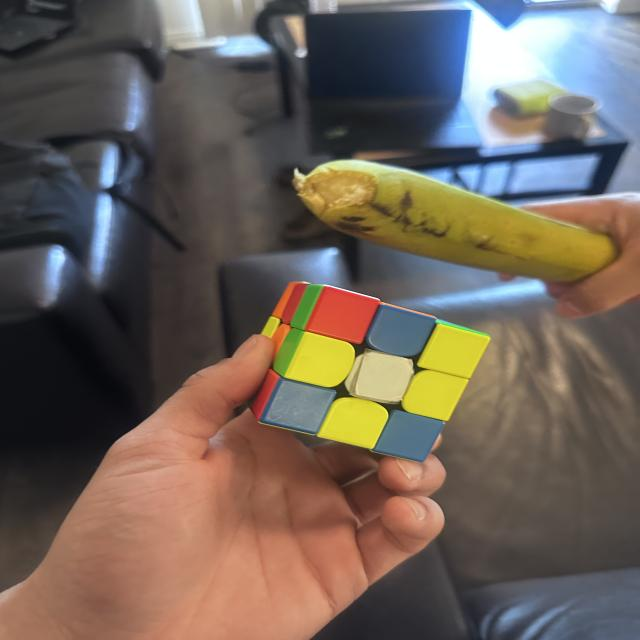sticker: (275, 328, 355, 388), (256, 376, 336, 436), (304, 285, 380, 345), (417, 320, 491, 378), (364, 303, 438, 360), (371, 408, 446, 463), (344, 348, 415, 406), (316, 396, 388, 449), (401, 368, 471, 422), (287, 283, 326, 331), (249, 368, 282, 423), (272, 327, 308, 376), (274, 281, 311, 324), (269, 322, 292, 358), (260, 315, 282, 340)
